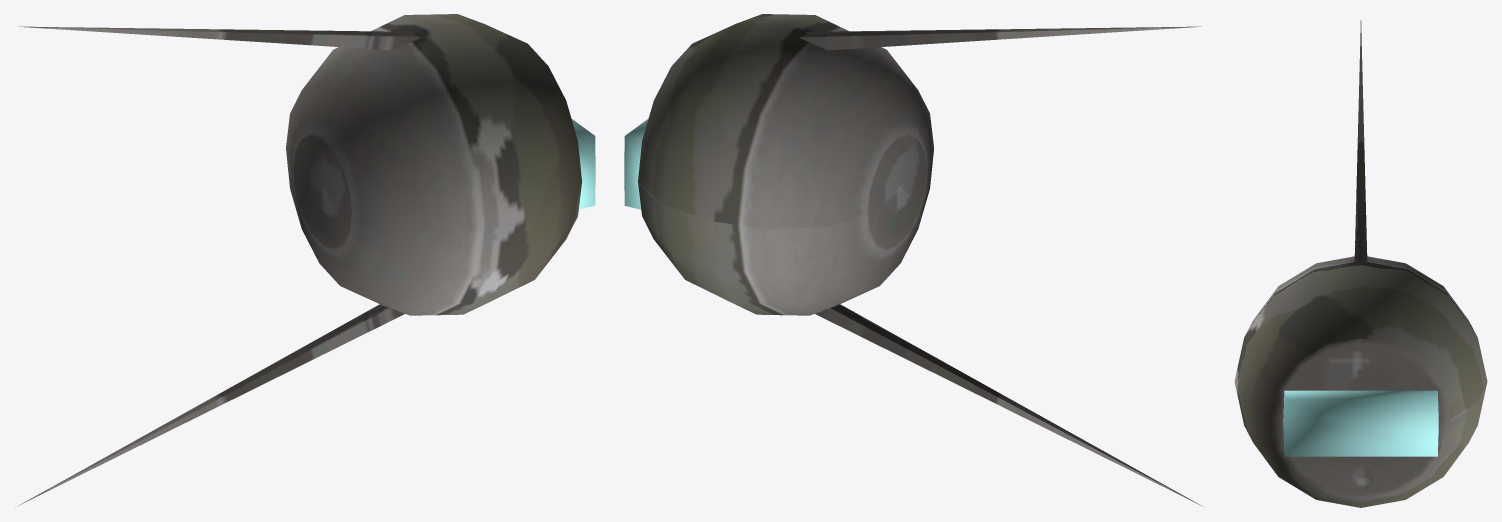
Rendered from titaniummanforceprobe.glb.
3 renders of one model, left to right at view 1: azimuth 30°, elevation 25°; view 2: azimuth 150°, elevation 25°; view 3: azimuth 270°, elevation 25°, orthographic. The views are drawn at different scales.
Parts seen in each view (by area): view 1: weapons/titaniummanforceprobe_0; view 2: weapons/titaniummanforceprobe_0; view 3: weapons/titaniummanforceprobe_0.
Boxes of the visible parts, <box> form: weapons/titaniummanforceprobe_0: <box>15,14,595,507</box>; weapons/titaniummanforceprobe_0: <box>624,14,1204,507</box>; weapons/titaniummanforceprobe_0: <box>1234,20,1487,507</box>.
Size of the model in its own units: 2 by 1.72 by 0.9938.
Materials: 1 (1 with a texture image).
